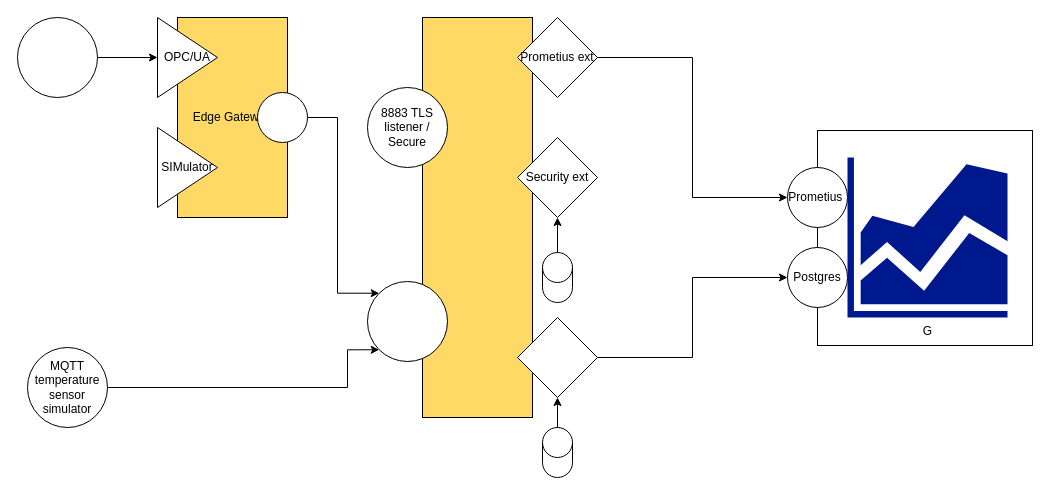
This 1050x495 diagram has some shape labels left out. The centre of each missing label's shape, as x and y in pixels:
"1883 listener / Secure" belongs at point (407, 321).
"Bridge" belongs at point (282, 117).
"Core broker" belongs at point (477, 217).
"OPC/UA server simulator" belongs at point (57, 57).
"Postgres ext" belongs at point (557, 357).
